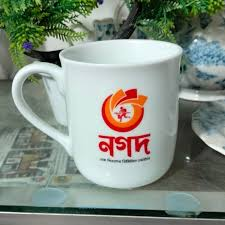mug: (1, 39, 196, 176)
